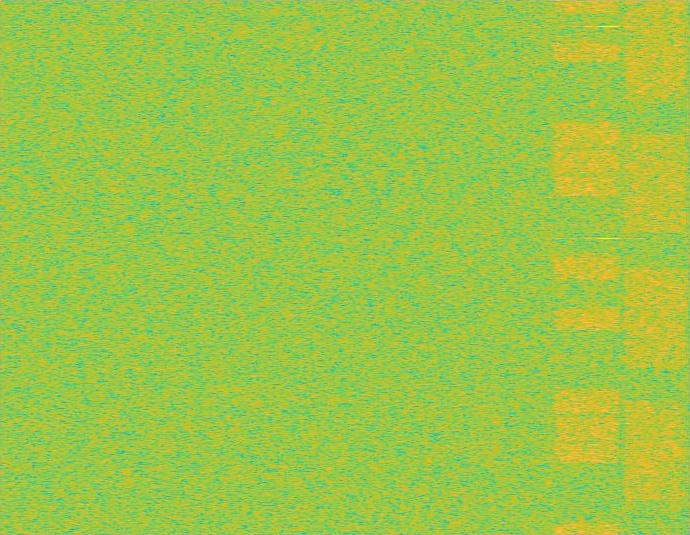5G: (621, 0, 689, 534)
LTE: (552, 0, 621, 534)
Radar: (601, 0, 615, 534)
